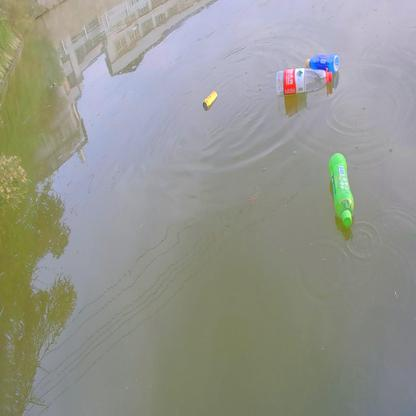plastic bottle: (328, 153, 353, 227), (275, 69, 333, 93), (305, 55, 339, 70)
